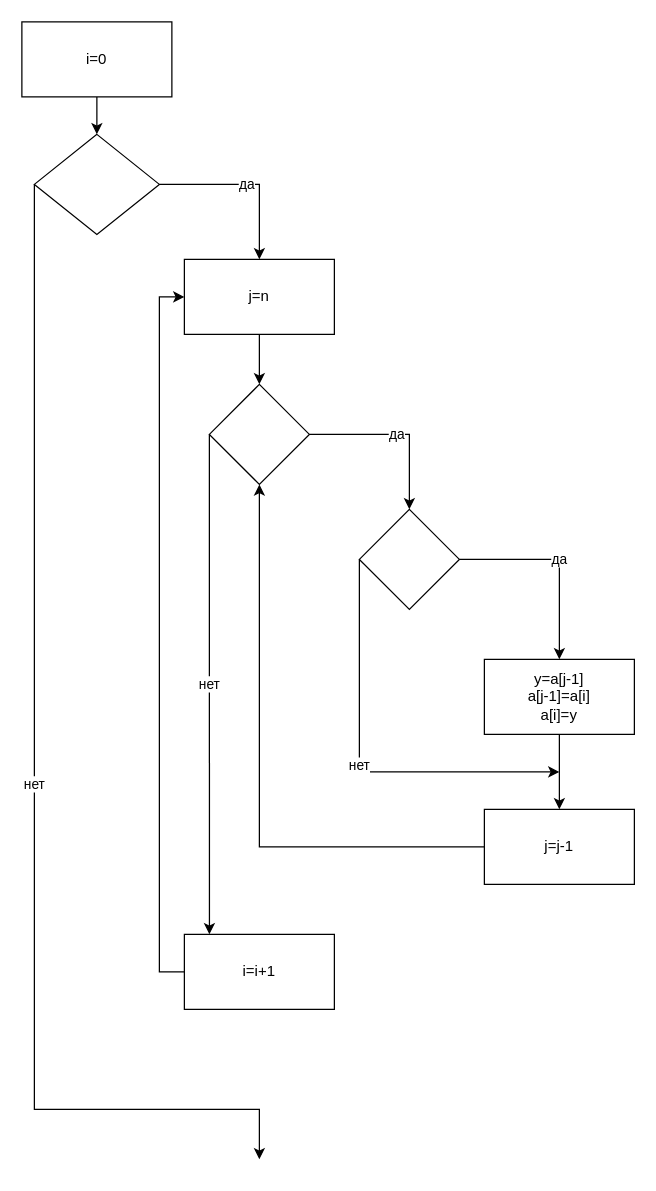
Some shapes in this 656 by 1191 pixel diagram are drawn without their labels. The box of each missing label's shape, as (x1, y1, x2, y2) in pixels:
a[j-1]<a[i]: (358, 508, 459, 609)
i<n: (33, 133, 159, 234)
j>=i: (208, 383, 309, 484)
